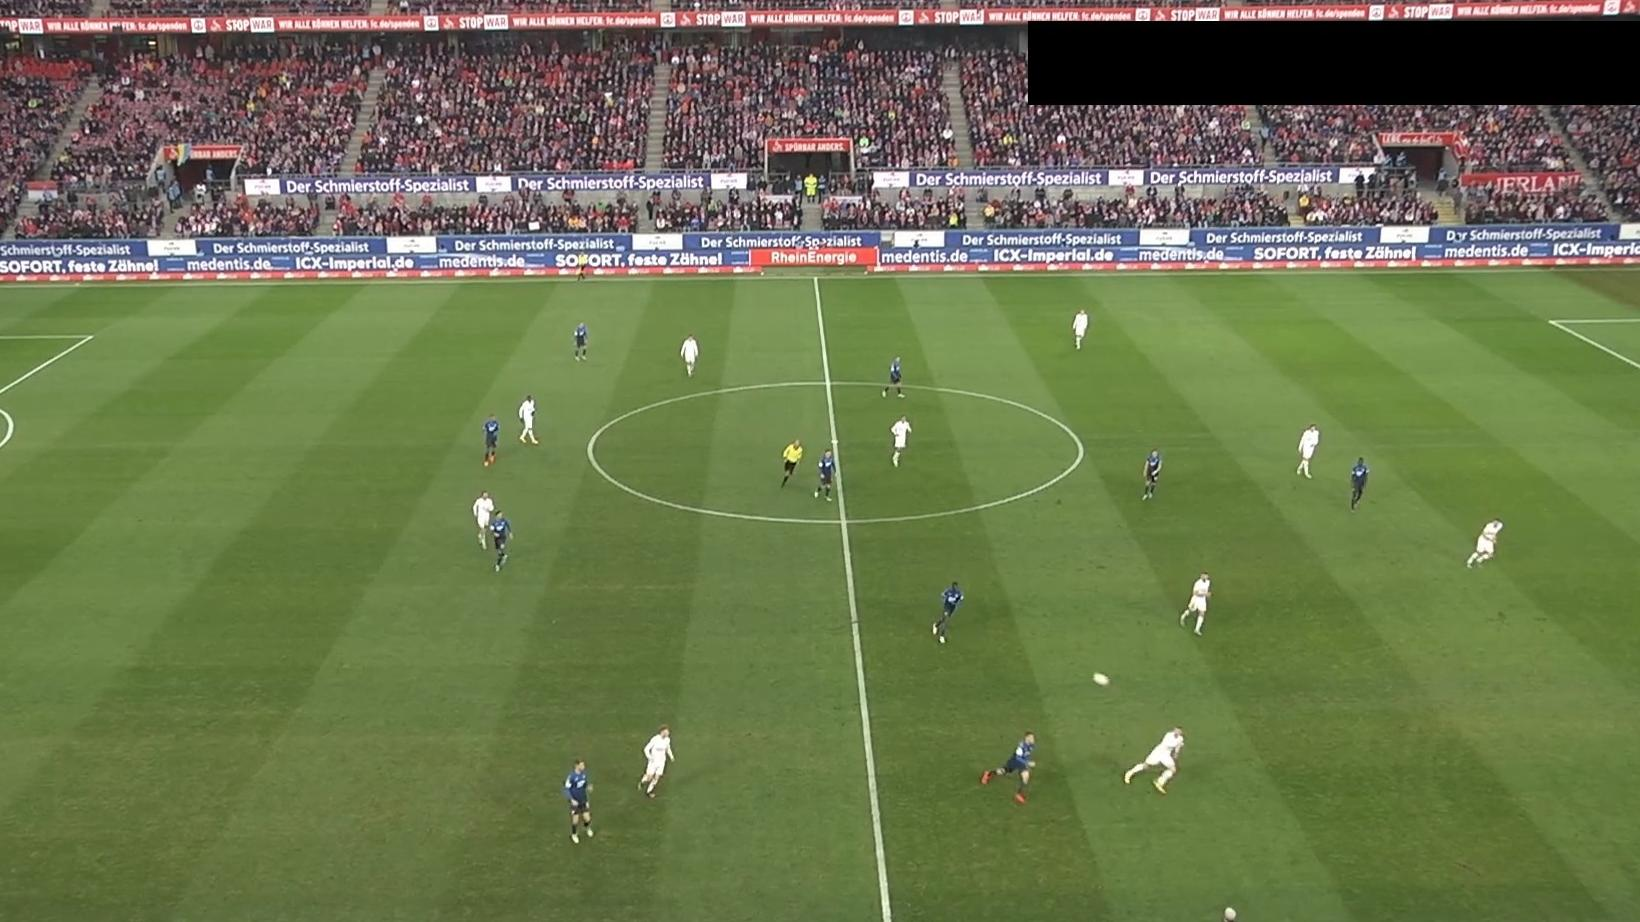ball: (1090, 671, 1112, 688)
